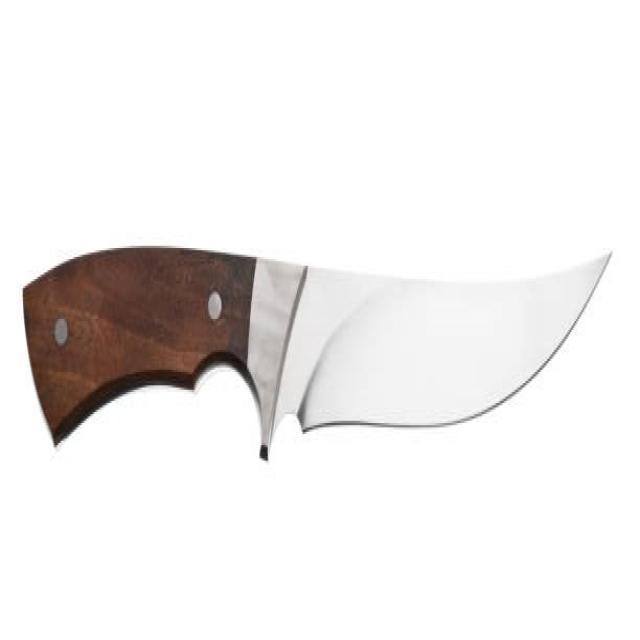knife: (20, 241, 619, 461)
